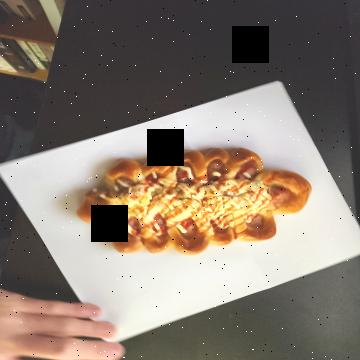pizza_bread: (140, 53, 250, 295)
